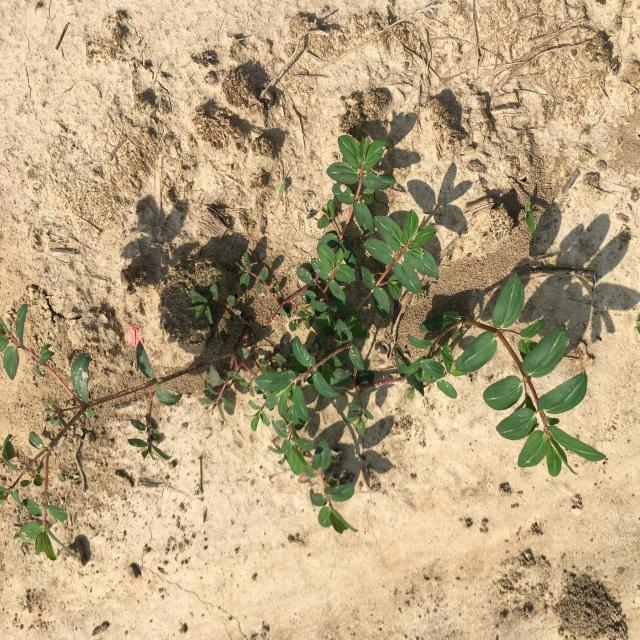SpottedSpurge: (0, 133, 605, 562)
